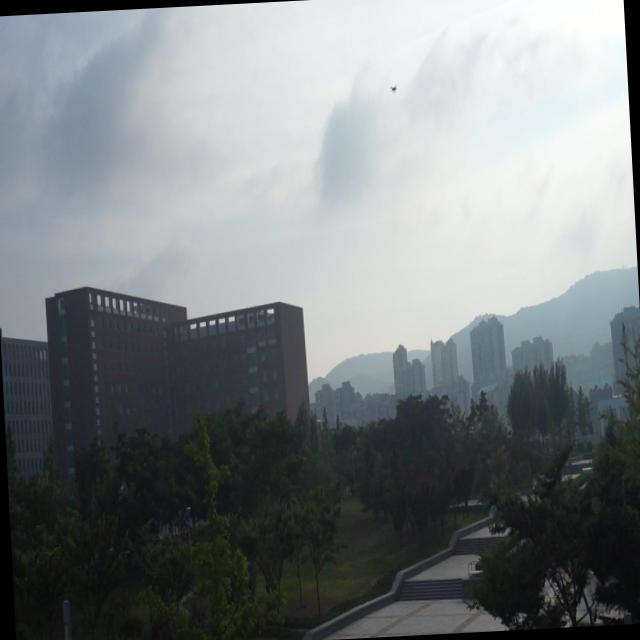drone: (389, 82, 398, 96)
